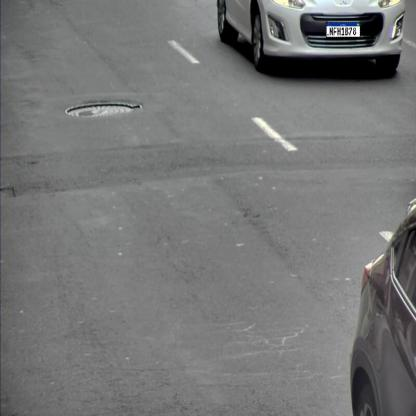PlacaM: (326, 22, 360, 38)
